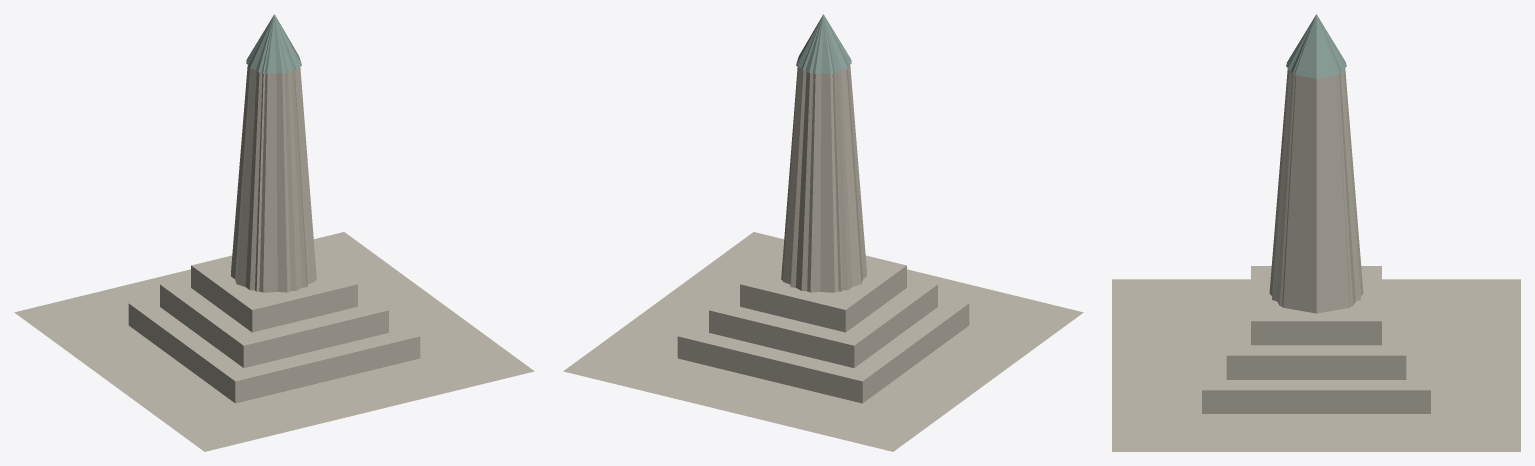
3 views of the same model, side by side, from view 1: azimuth 30°, elevation 25°; view 2: azimuth 150°, elevation 25°; view 3: azimuth 270°, elevation 25° (orthographic). The views are drawn at different scales.
Visible parts, largest first — view 1: Near, Mid, Far; view 2: Near, Mid, Far; view 3: Near, Far, Mid.
Boxes of the visible parts, <box> form: Near: <box>14,14,534,451</box>; Mid: <box>231,15,315,292</box>; Far: <box>231,17,307,291</box>; Near: <box>563,14,1083,451</box>; Mid: <box>782,15,866,292</box>; Far: <box>790,17,866,291</box>; Near: <box>1112,14,1520,451</box>; Far: <box>1271,16,1361,301</box>; Mid: <box>1277,14,1355,306</box>.
Bounding box in the file's own units: 2 × 1.9 × 2.
